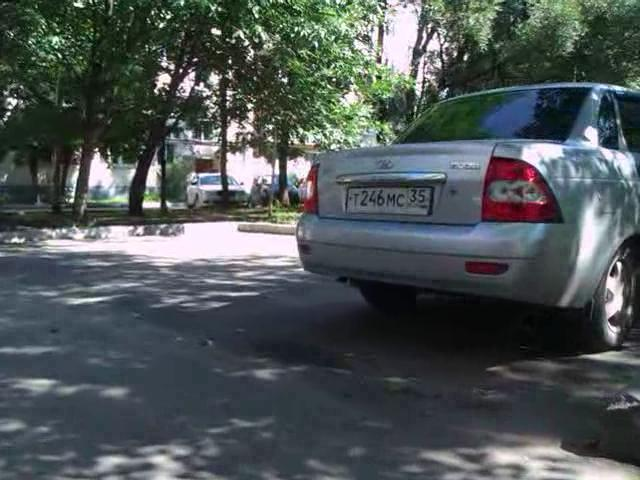car license plate: (344, 184, 435, 219)
